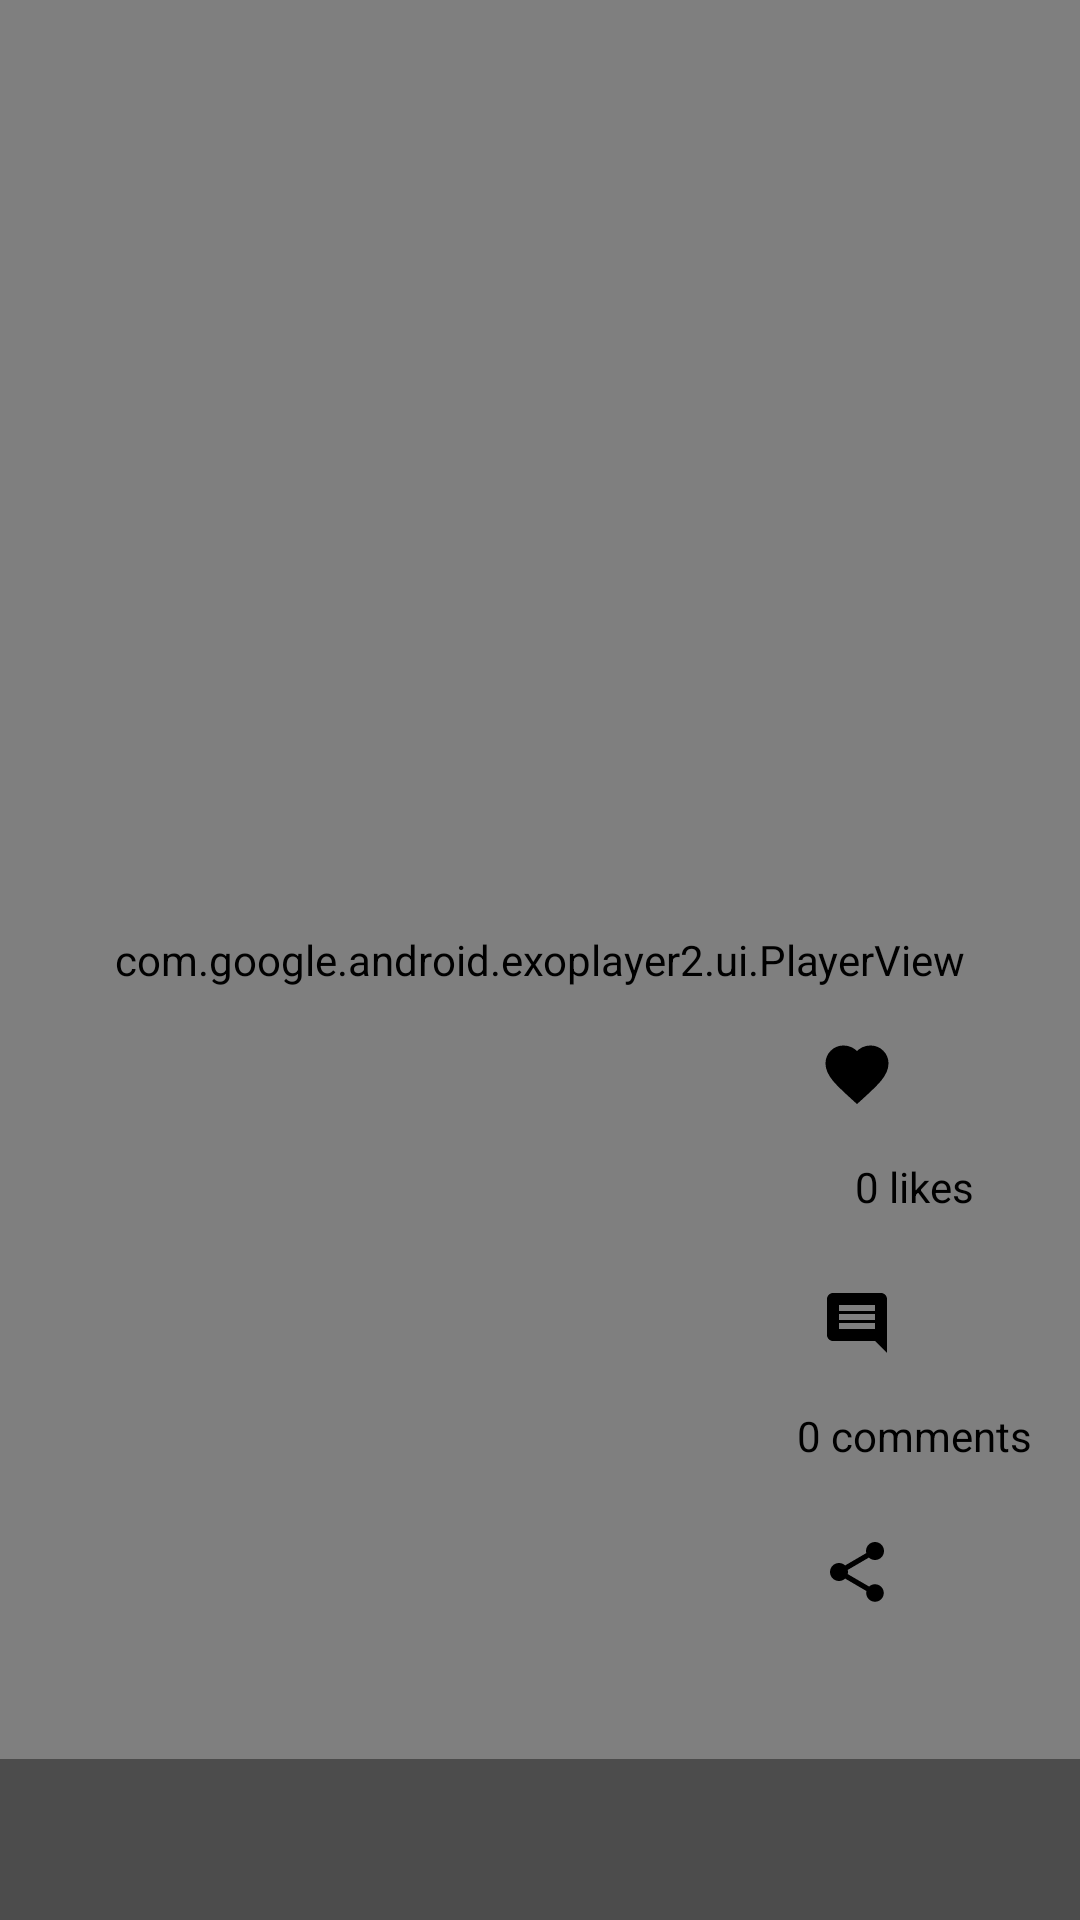

Where to tap for icons on this 1080x1920 app screen, as point (x, y):
share: point (857, 1572)
